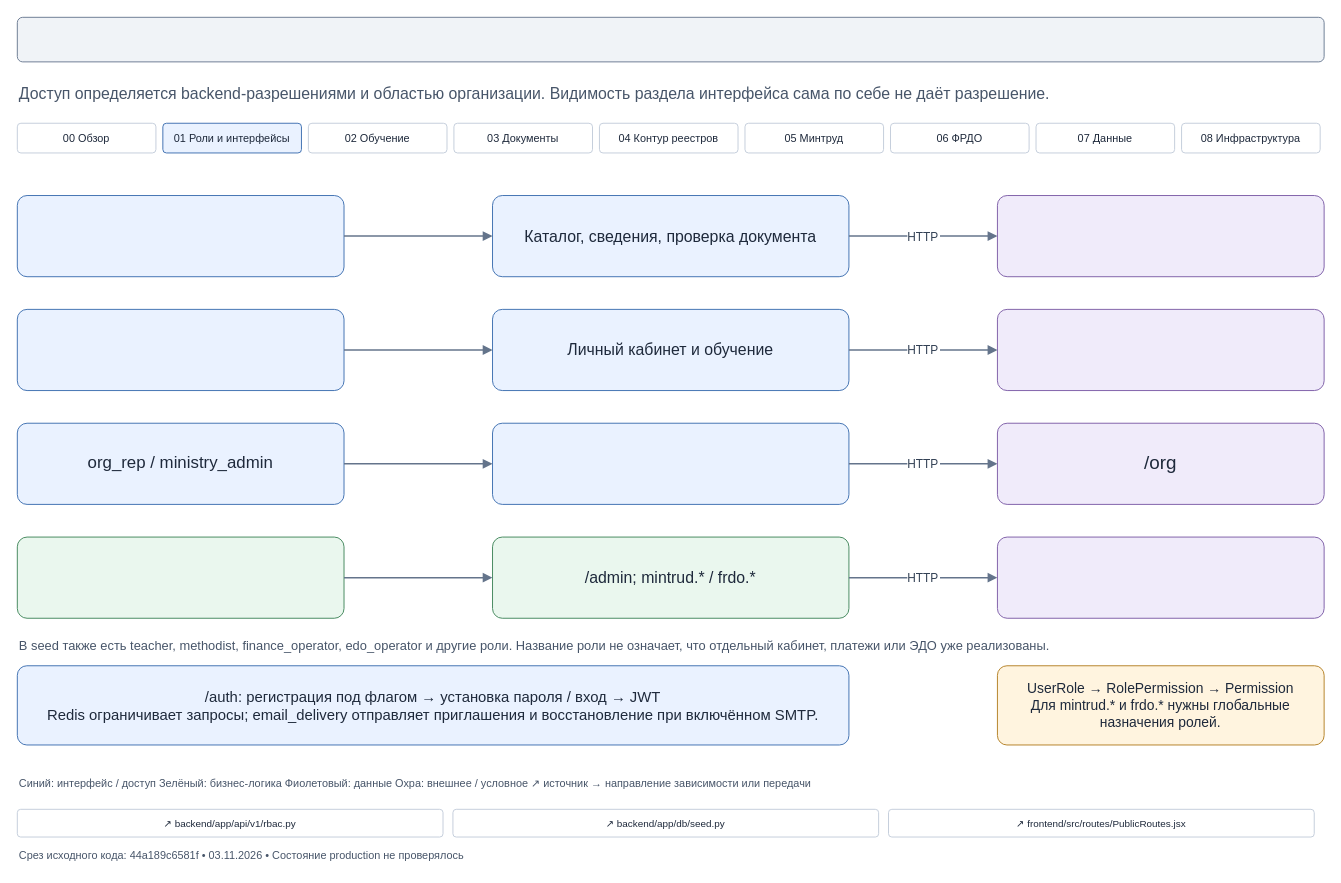
The diagram is 1341 pixels wide and 883 high, and some of its shapes have lost their labels. Here are the shapes that lost their labels. From the top down, the box of each, then its label:
(16, 16, 1324, 62): OBRPORTAL / 01 Роли и интерфейсы
(16, 195, 344, 277): Гость
(996, 195, 1324, 277): /public
(16, 308, 344, 391): learner_fl / learner_org
(996, 308, 1324, 391): /account
(492, 422, 849, 504): /organization; /ministry — просмотр профилей
(16, 536, 344, 618): admin / операторы реестров
(996, 536, 1324, 618): /admin
